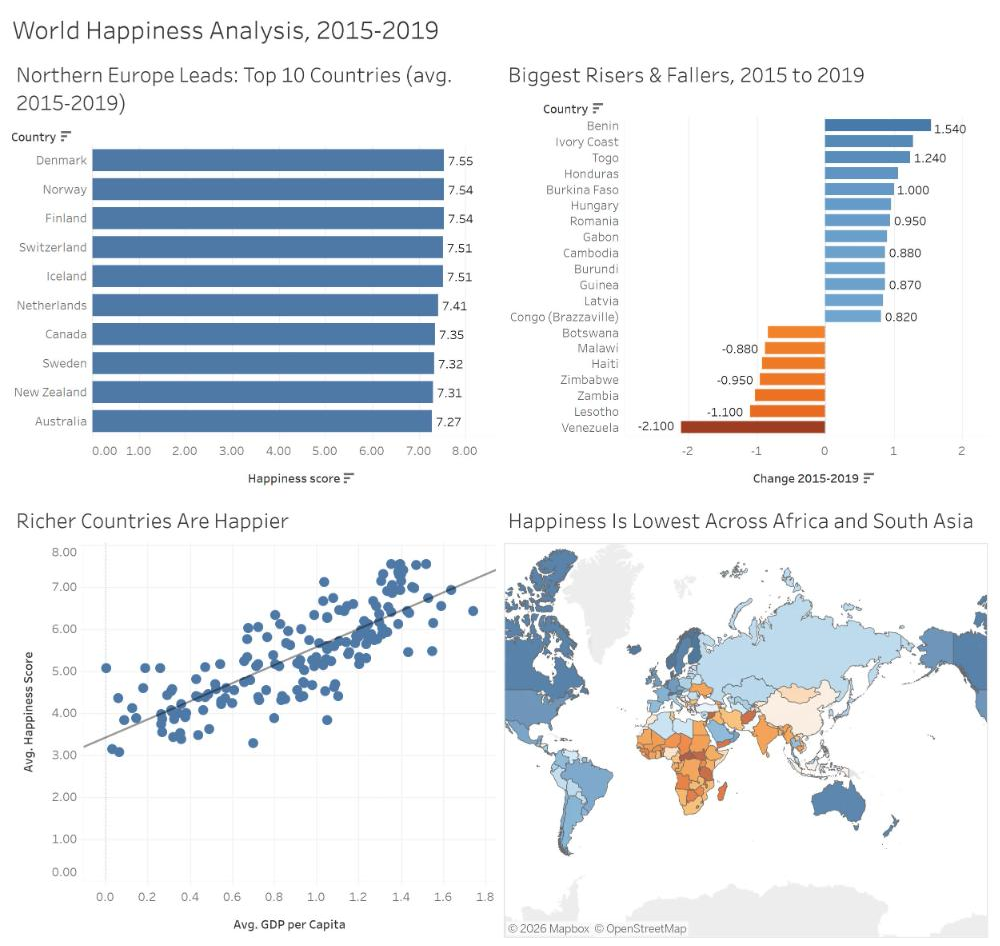

The dashboard page shown, as its layout file describes it:
{"tool":"tableau","page":{"name":"Dashboard 1","canvas":[650,860],"ordinal":0},"visuals":[{"type":"title","box":[8,9.9,634,47.1]},{"type":"worksheet","title":"global happiness","mark":"Automatic","rows":["Happiness_Score"],"cols":["Country"],"box":[8,57,317,396.5]},{"type":"worksheet","title":"top and buttom 5","mark":"Automatic","rows":["Happiness_Score"],"cols":["Year"],"box":[325,57,317,396.5]},{"type":"worksheet","title":"wealth","mark":"Automatic","rows":["Happiness_Score"],"cols":["GDP_per_Capita"],"box":[8,453.5,317,396.5]},{"type":"worksheet","title":"heat map","mark":"Multipolygon","box":[325,453.5,317,396.5]}]}

Visuals, with their boxes on the page's 650x860 design canvas (x1, y1, x2, y2). These are canvas units, not pixel positions in the 1000x946 screenshot, which may show the page scaled, cropped or inside an application window:
title: (8,10,642,57)
"global happiness" worksheet: (8,57,325,454)
"top and buttom 5" worksheet: (325,57,642,454)
"wealth" worksheet: (8,454,325,850)
"heat map" worksheet (Multipolygon marks): (325,454,642,850)
